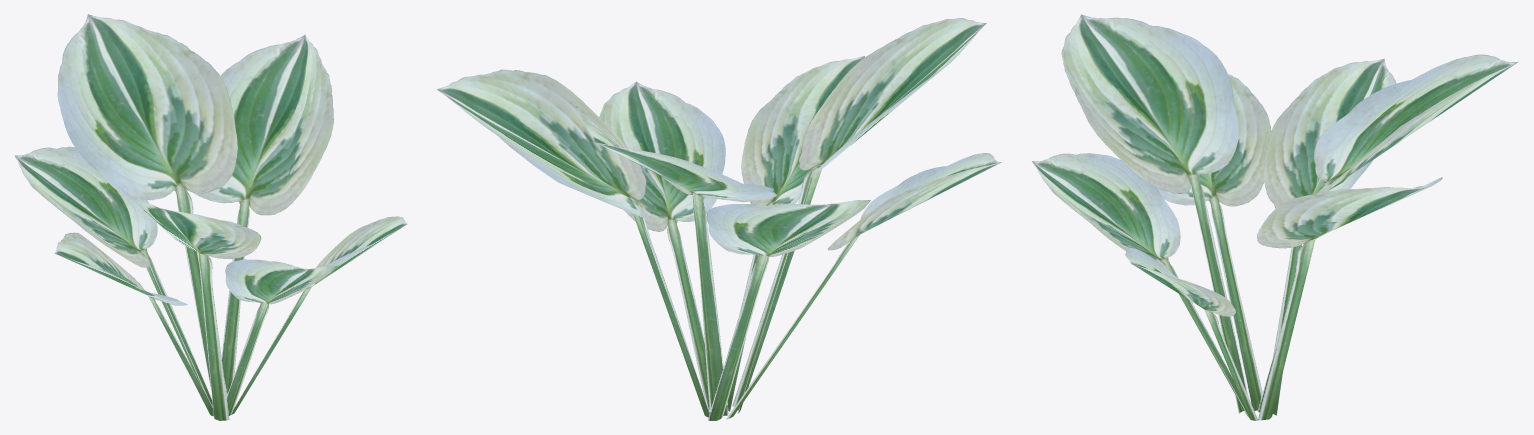
Rendered from plant_small_wg_01K.fbx.
3 renders of one model, left to right at view 1: azimuth 30°, elevation 25°; view 2: azimuth 150°, elevation 25°; view 3: azimuth 270°, elevation 25°, orthographic. The views are drawn at different scales.
Parts seen in each view (by area): view 1: plant_small_wg_01K; view 2: plant_small_wg_01K; view 3: plant_small_wg_01K.
Boxes of the visible parts, x1=… form: plant_small_wg_01K: x1=14, y1=14, x2=407, y2=420; plant_small_wg_01K: x1=437, y1=18, x2=1001, y2=420; plant_small_wg_01K: x1=1032, y1=14, x2=1518, y2=420.
Bounding box in the file's own units: 54.09 × 45.4 × 58.08.
